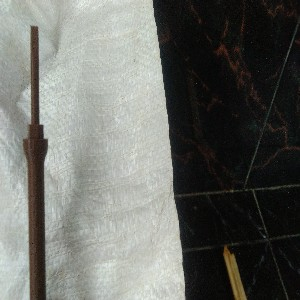obeng: (22, 24, 49, 300)
